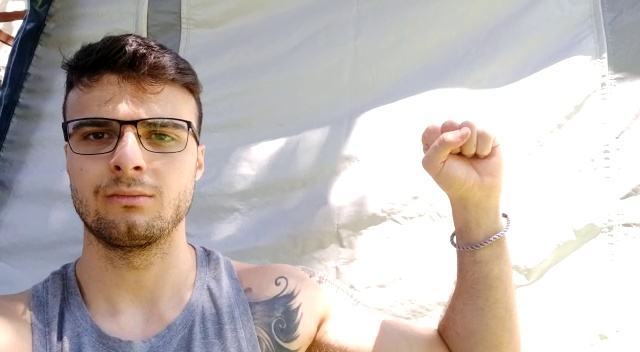Fist: (414, 119, 514, 201)
